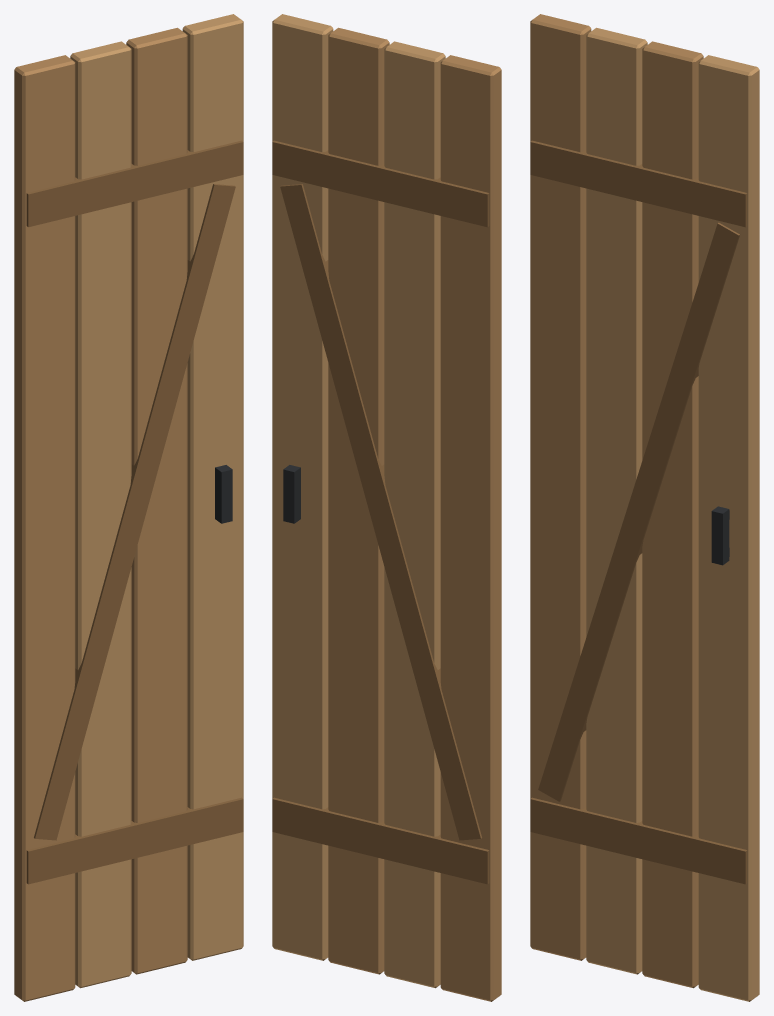
Rendered from porte_bois_battant.glb.
3 views of the same model, side by side, from view 1: azimuth 30°, elevation 25°; view 2: azimuth 150°, elevation 25°; view 3: azimuth 330°, elevation 25° (orthographic).
Visible parts, largest first — view 1: porte_bois_battant_planche.002, porte_bois_battant_planche_claire.002, porte_bois_battant_planche_sombre.002, porte_bois_battant_fer_noir.002; view 2: porte_bois_battant_planche.002, porte_bois_battant_planche_claire.002, porte_bois_battant_planche_sombre.002, porte_bois_battant_fer_noir.002; view 3: porte_bois_battant_planche_claire.002, porte_bois_battant_planche.002, porte_bois_battant_planche_sombre.002, porte_bois_battant_fer_noir.002.
Boxes of the visible parts, x1,y1,x2,y2 form: porte_bois_battant_planche.002: [14, 27, 187, 1001]; porte_bois_battant_planche_claire.002: [70, 14, 243, 988]; porte_bois_battant_planche_sombre.002: [26, 140, 243, 884]; porte_bois_battant_fer_noir.002: [215, 465, 232, 523]; porte_bois_battant_planche.002: [328, 27, 501, 1001]; porte_bois_battant_planche_claire.002: [272, 14, 445, 988]; porte_bois_battant_planche_sombre.002: [272, 140, 489, 884]; porte_bois_battant_fer_noir.002: [283, 465, 300, 523]; porte_bois_battant_planche_claire.002: [586, 27, 759, 1001]; porte_bois_battant_planche.002: [530, 14, 703, 988]; porte_bois_battant_planche_sombre.002: [530, 140, 747, 884]; porte_bois_battant_fer_noir.002: [711, 506, 729, 565].
Size of the model in its own units: 0.494 by 1.98 by 0.1.
